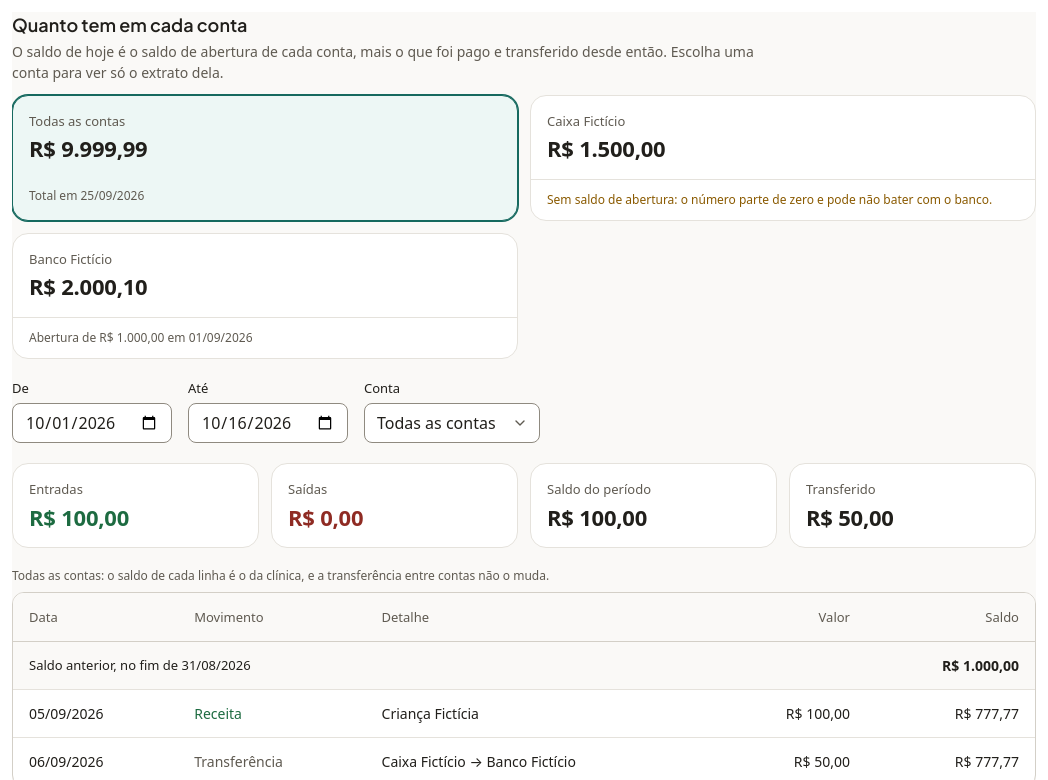
Test: Quanto tem em cada conta — os cartões › deve voltar a todas as contas pelo cartão do total
Click the button "Banco Fictício R$ 2.000,10".
click(71, 259)  # box top-left (13, 234), bottom-right (517, 317)
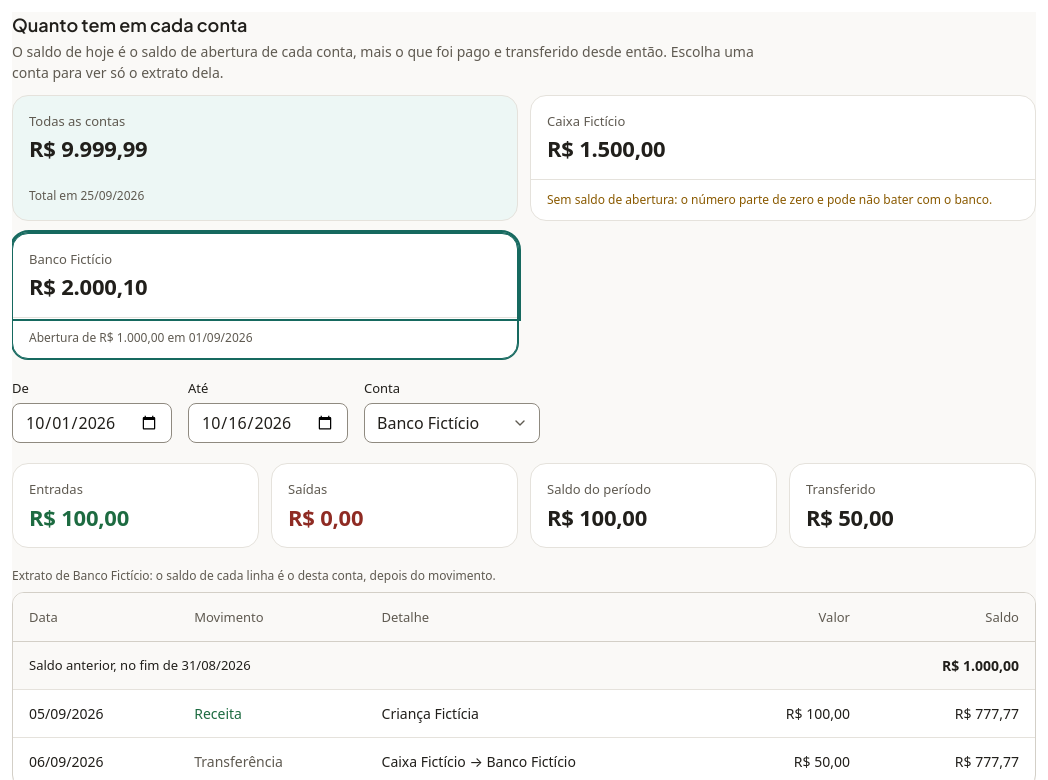
Click the button "Todas as contas R$ 9.999,99 Total em 25/09/2026".
click(77, 121)  # box top-left (13, 96), bottom-right (517, 220)
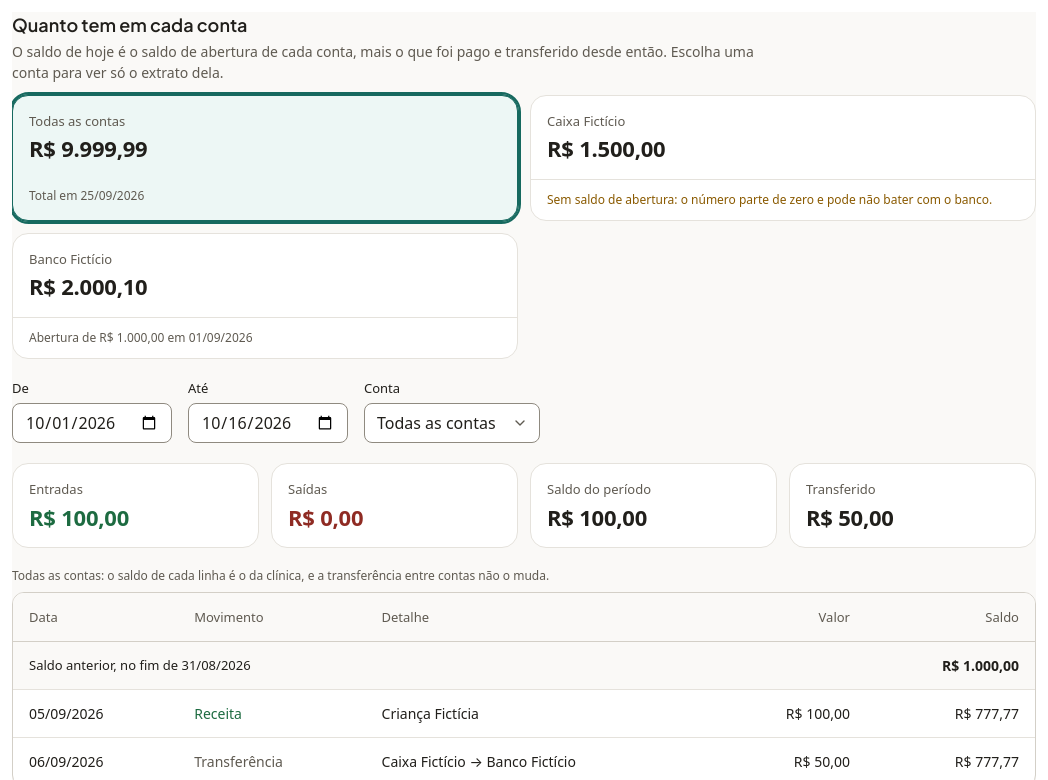
Check: the dropdown labelled "Conta" shows "Todas as contas", box top-left (364, 403), bottom-right (540, 443)
